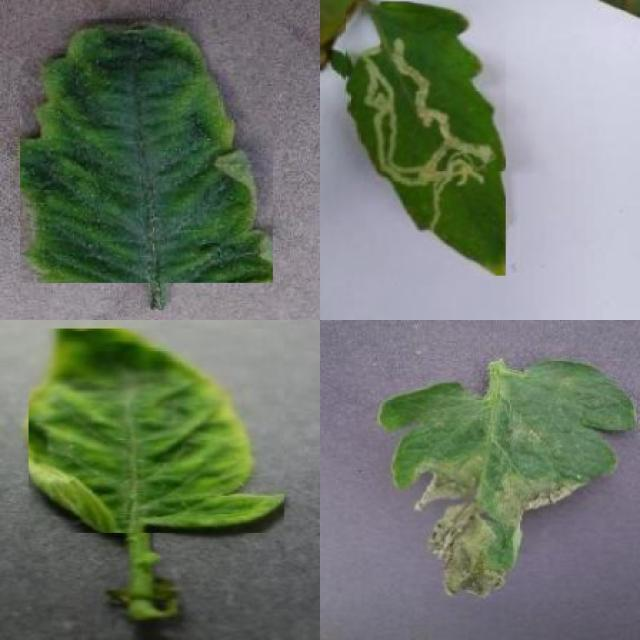Late Blight: (377, 358, 637, 602)
Leaf Miner: (346, 2, 506, 277)
Yellow Leaf Curl Virus: (20, 18, 273, 283), (29, 328, 284, 533)
